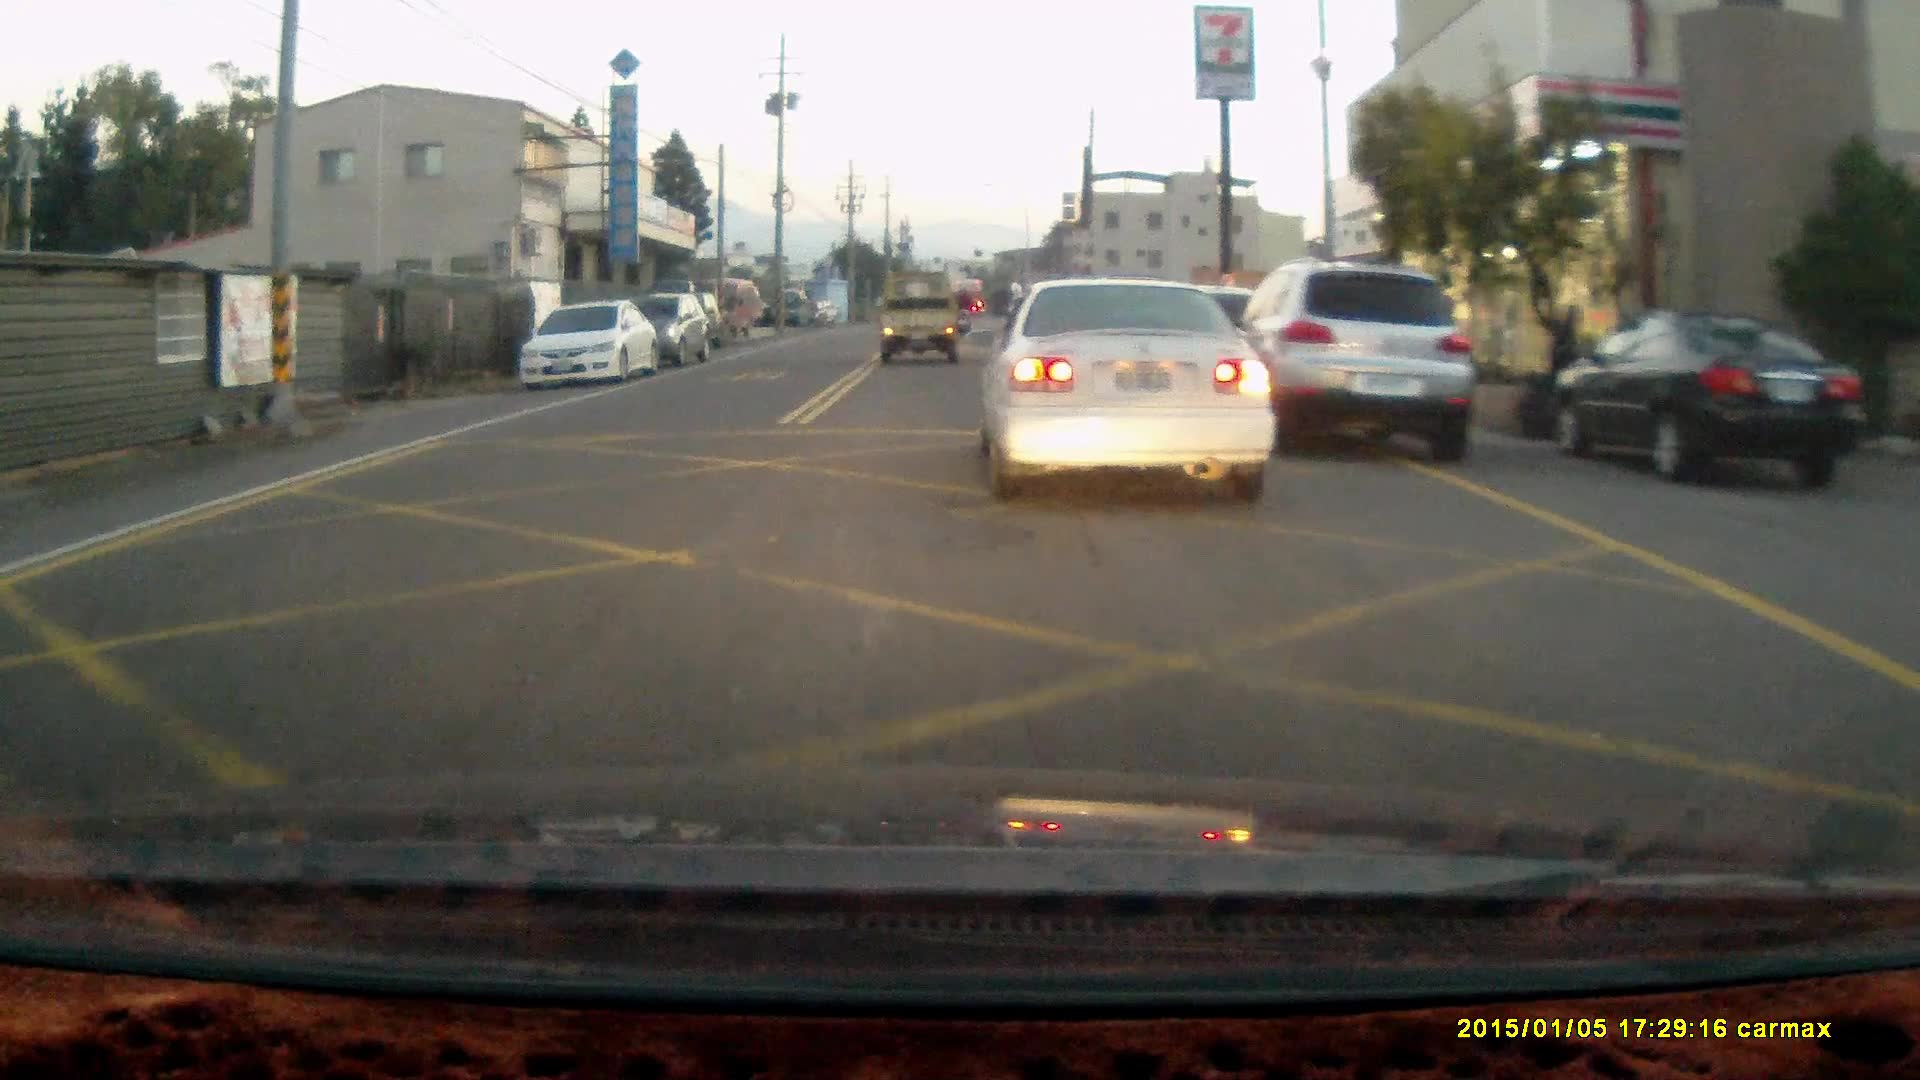rider: (1516, 303, 1619, 439), (949, 284, 975, 336)
vehicle: (976, 276, 1277, 493), (1542, 315, 1872, 485), (1224, 263, 1482, 467), (512, 295, 663, 389), (873, 274, 961, 364), (627, 295, 708, 369)
